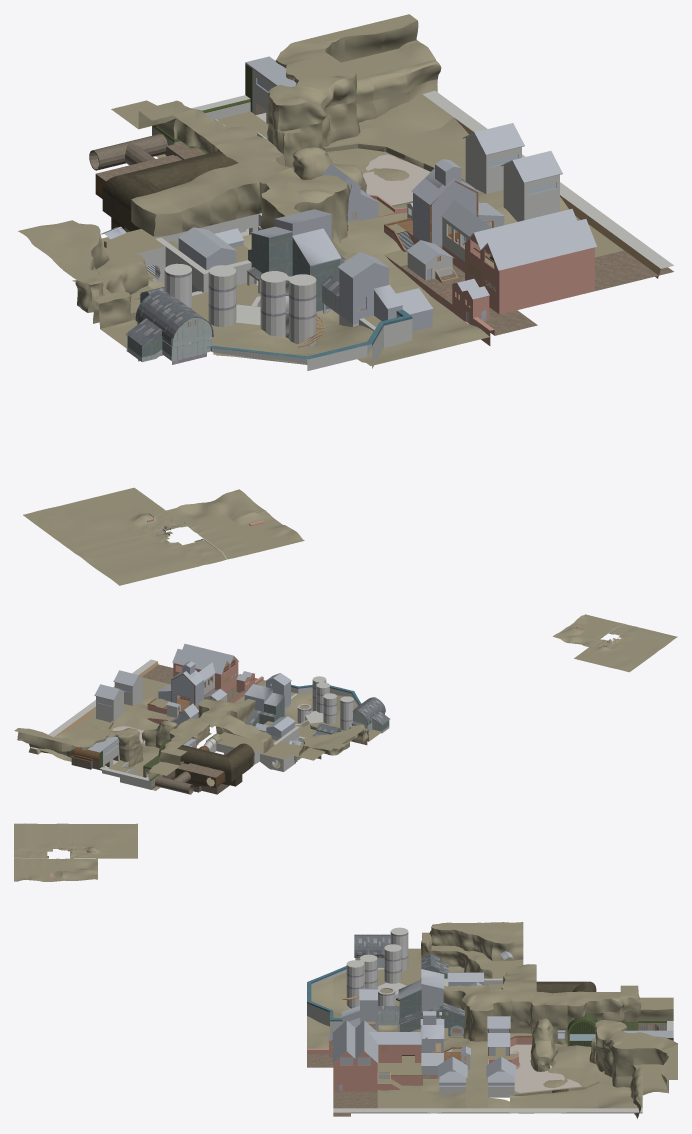
Rendered from caper.glb.
3 renders of one model, top to bottom at view 1: azimuth 30°, elevation 25°; view 2: azimuth 150°, elevation 25°; view 3: azimuth 270°, elevation 25°, orthographic. The views are drawn at different scales.
Visible parts, largest first — view 1: cp_caper; view 2: cp_caper; view 3: cp_caper.
Part boxes in pixels (<box>): cp_caper: <box>18,14,673,585</box>; cp_caper: <box>14,614,677,794</box>; cp_caper: <box>14,823,677,1118</box>.
Size of the model in its own units: 220 by 39.01 by 244.
Materials: 164 (33 with a texture image).
